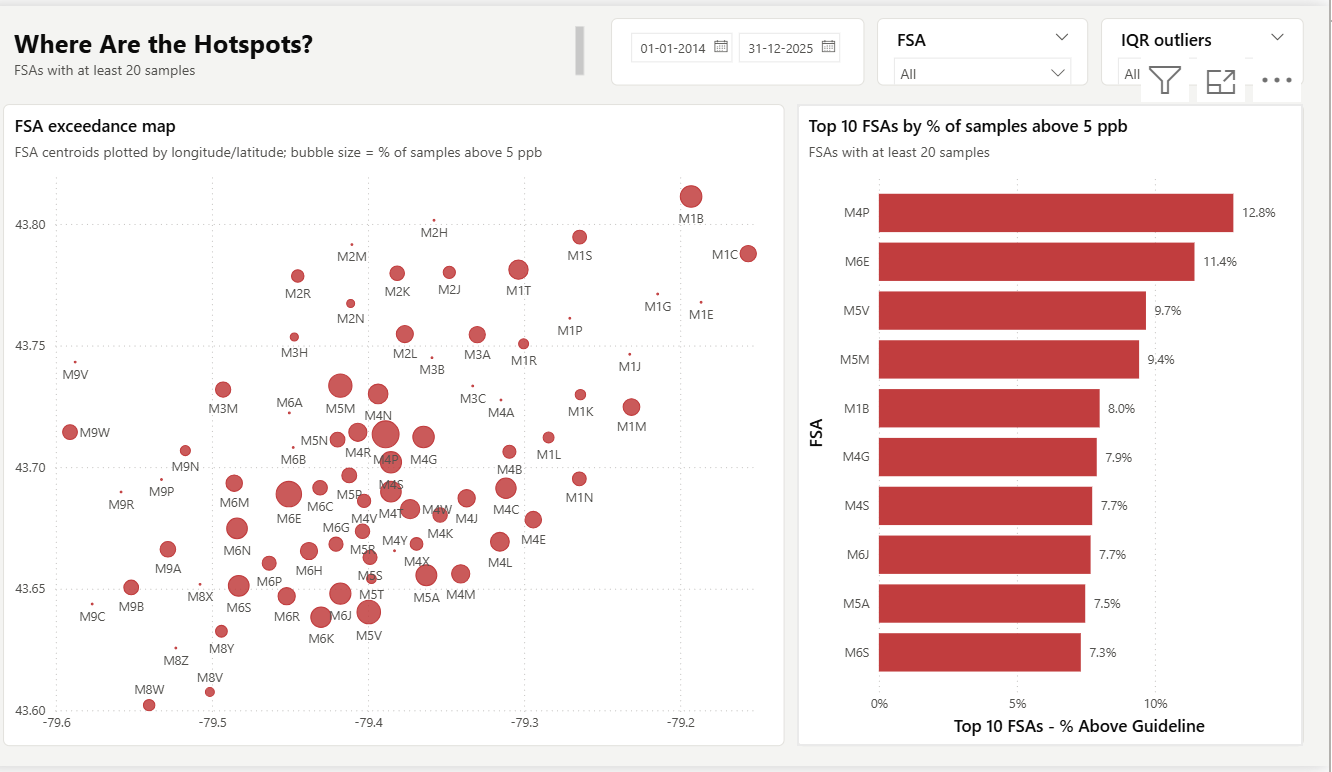

This screenshot's page, from the dashboard's own definition file:
{"tool":"powerbi","page":{"name":"Geography","canvas":[1280,720],"ordinal":2},"visuals":[{"type":"textbox","box":[24,12,560,64],"z":1000},{"type":"slicer","fields":{"Values":["Date.Date"]},"box":[600,12,240,64],"z":2000},{"type":"slicer","fields":{"Values":["FSA Lookup.FSA"]},"box":[852,12,200,64],"z":3000},{"type":"slicer","fields":{"Values":["Lead Samples.Outlier Status"]},"box":[1064,12,192,64],"z":4000},{"type":"scatterChart","title":"FSA exceedance map","fields":{"Category":["FSA Lookup.FSA"],"Size":["Lead Samples.% Above Guideline (FSA, 20+ samples)"],"X":["Lead Samples.FSA Longitude"],"Y":["Lead Samples.FSA Latitude"]},"box":[24,92,740,608],"z":5000},{"type":"clusteredBarChart","title":"Top 10 FSAs by % of samples above 5 ppb","fields":{"Category":["FSA Lookup.FSA"],"Y":["Lead Samples.Top 10 FSAs - % Above Guideline"]},"box":[776,92,480,608],"z":6000}]}

Visuals, with their boxes in screenshot pixels (x1, y1, x2, y2), scaled from the page's 1280x720 canvas onto the 1332x772 screenshot:
textbox: (25,13,608,81)
slicer - Date.Date: (624,13,874,81)
slicer - FSA Lookup.FSA: (887,13,1095,81)
slicer - Lead Samples.Outlier Status: (1107,13,1307,81)
"FSA exceedance map" scatterChart: (25,99,795,751)
"Top 10 FSAs by % of samples above 5 ppb" clusteredBarChart: (808,99,1307,751)
